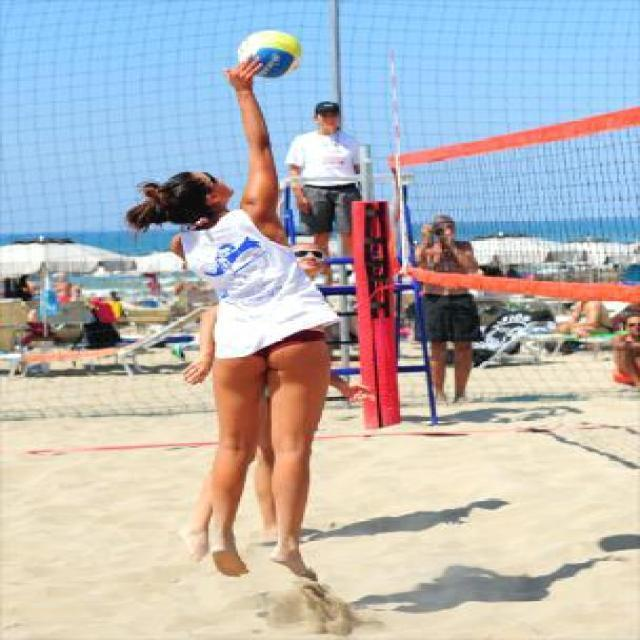volleyball: (239, 30, 300, 78)
